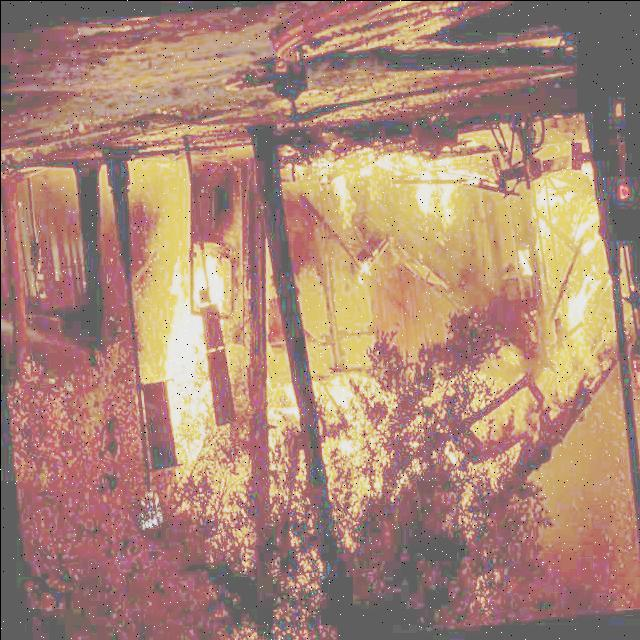api: (472, 337, 600, 463), (326, 138, 500, 218), (540, 158, 604, 337), (168, 248, 222, 455), (298, 365, 387, 469)
asap: (112, 150, 190, 250), (130, 255, 167, 375)
